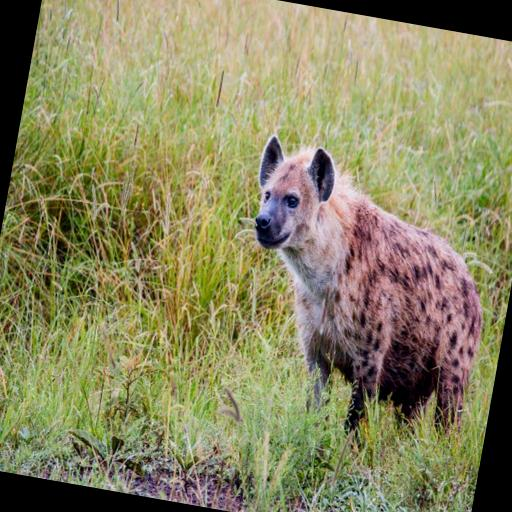hyenas: (203, 104, 512, 457)
